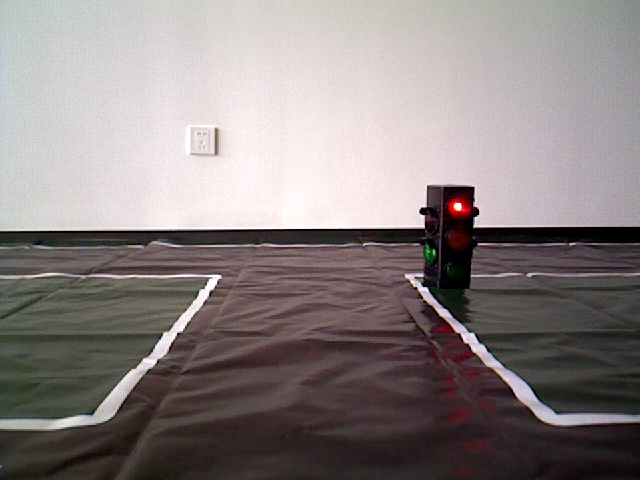red: (424, 188, 470, 287)
